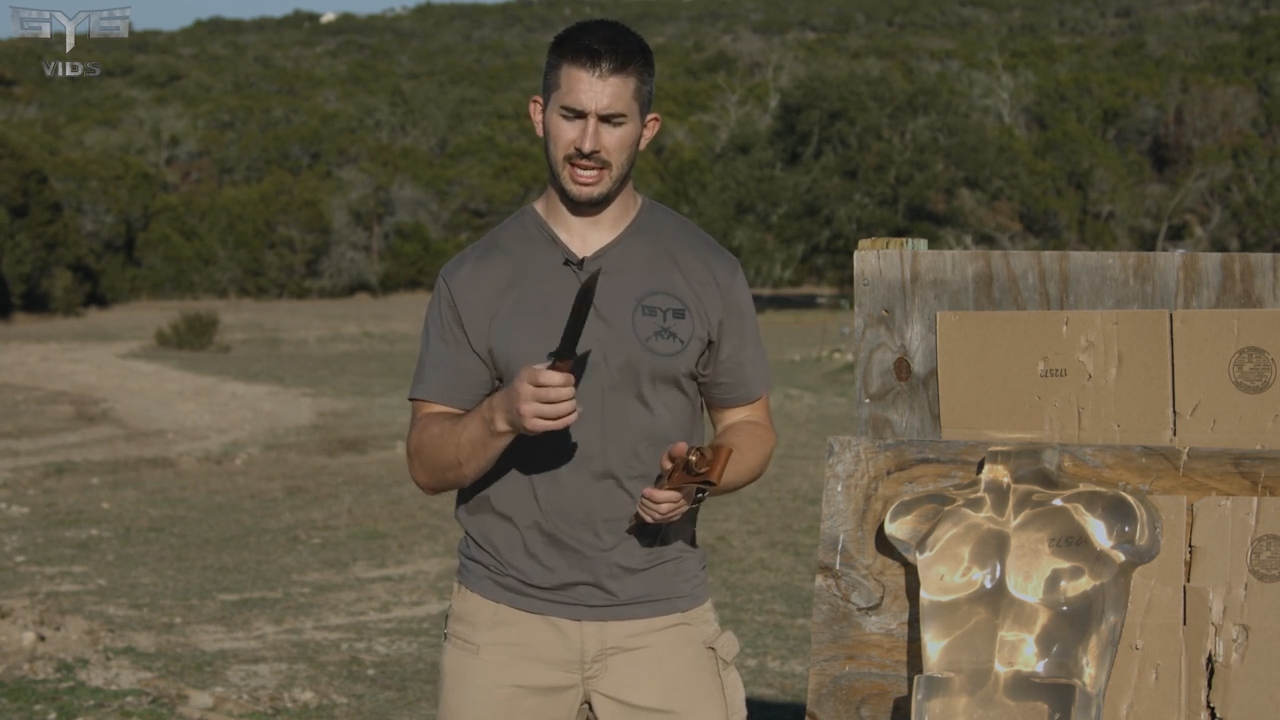knife: (511, 253, 612, 427)
